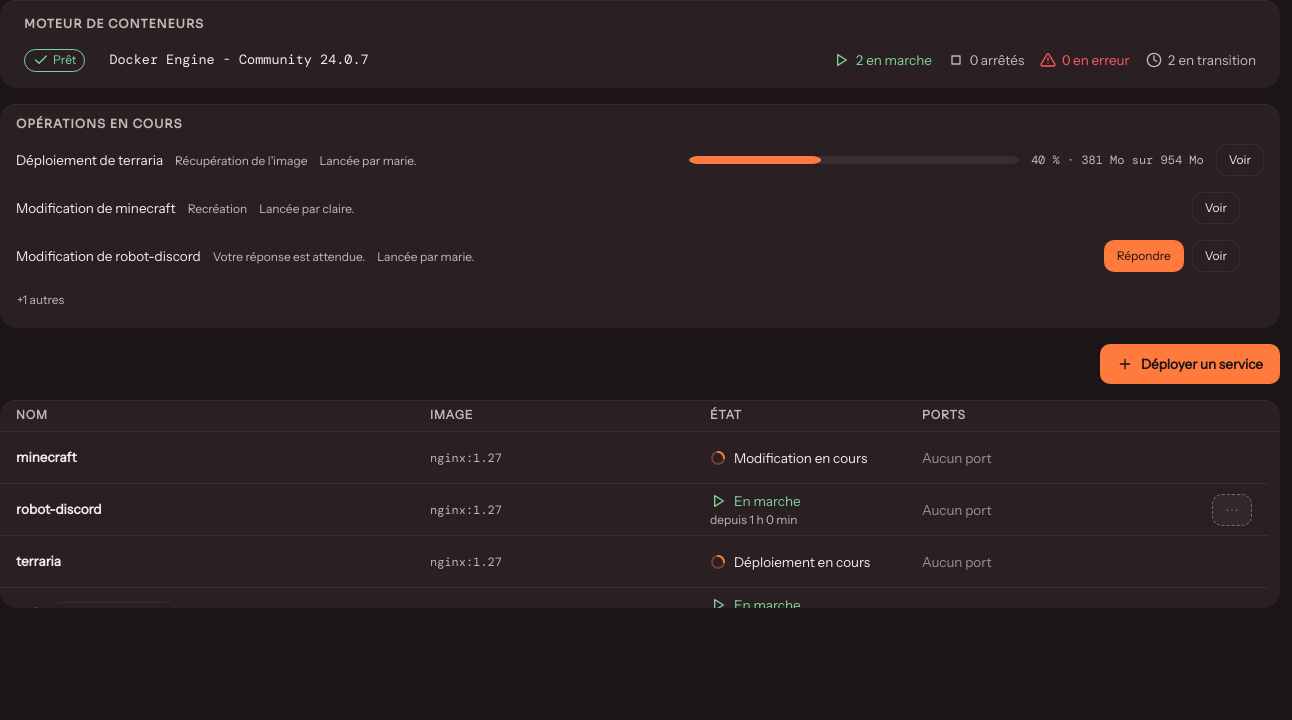
Scenario: la bande « Opérations en cours » › D : lecture seule avec le droit, la progression de l'effacement est visible
Click the button "+1 autres" at (41, 300), box [16, 284, 65, 316]
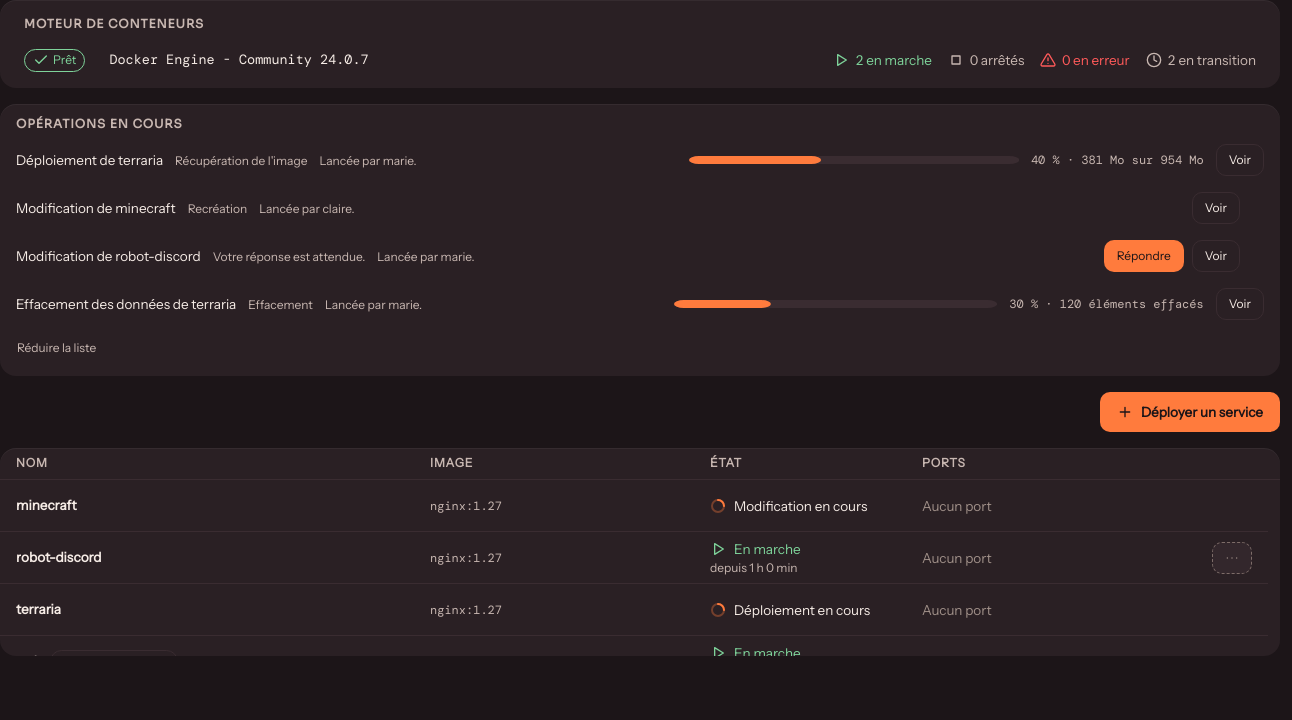
Now the text "Effacement des données de terraria" is shown, box [16, 295, 236, 314]
Now the text "30 % · 120 éléments effacés" is shown, box [1009, 296, 1204, 313]
